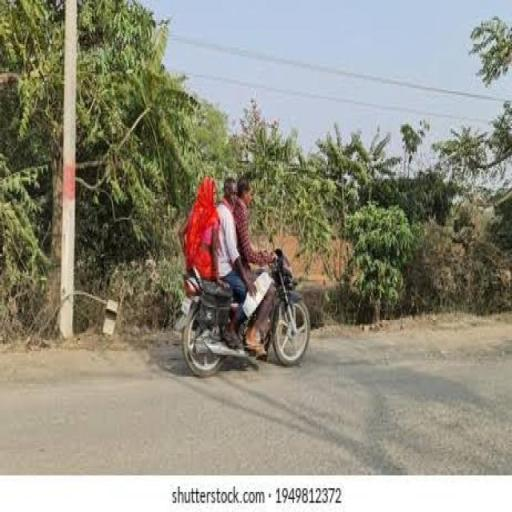tripple riding: (170, 187, 302, 329)
